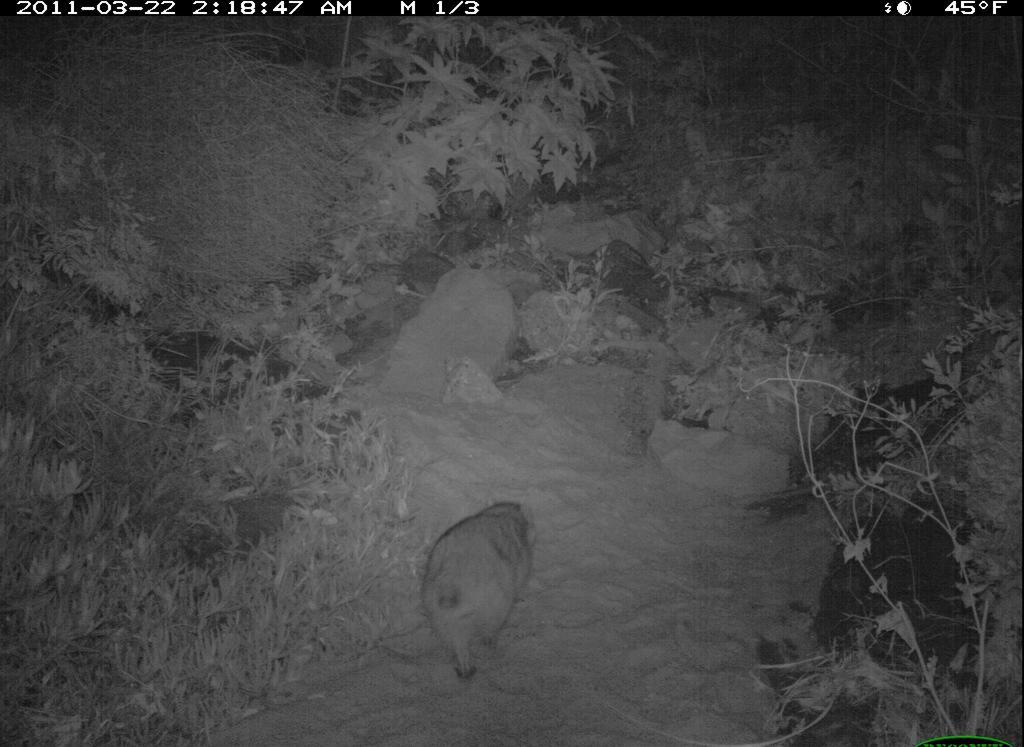raccoon: (408, 483, 546, 680)
